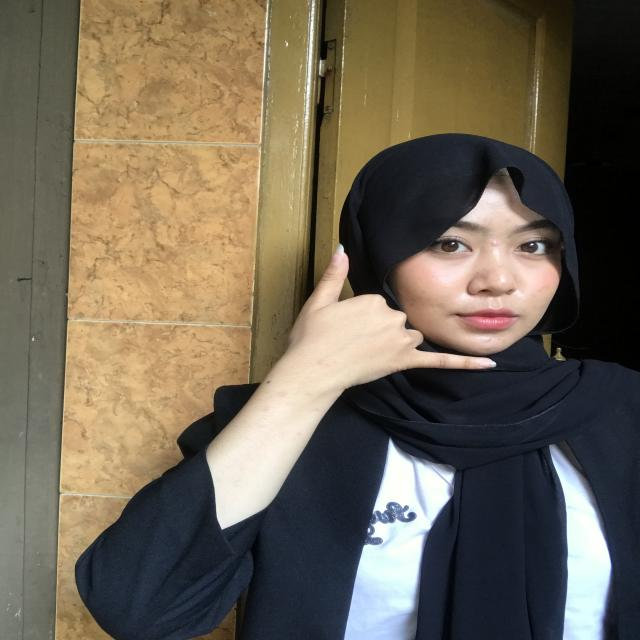telpon: (262, 226, 508, 406)
